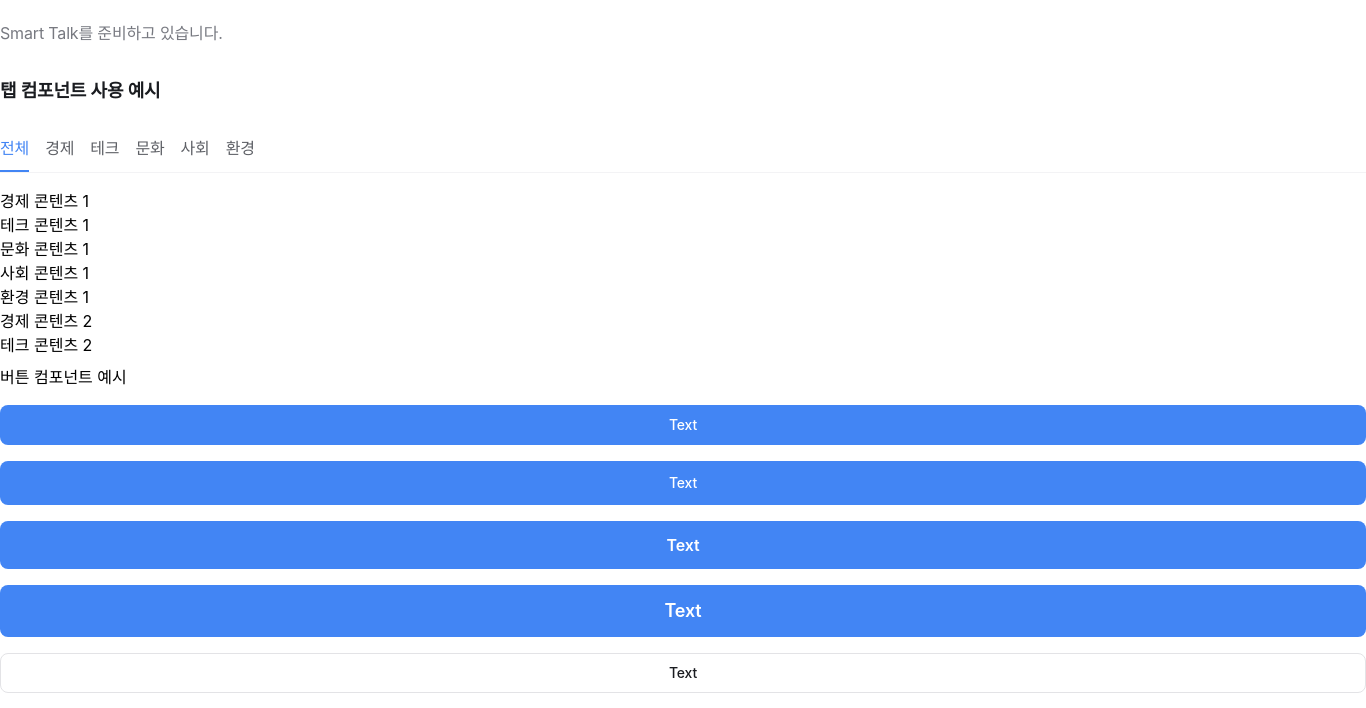
Scenario: keeps the selected tab and its filtered content when the bottom sheet closes
Click the tab "테크": (105, 148) [90,124,119,172]
(page scrolled)
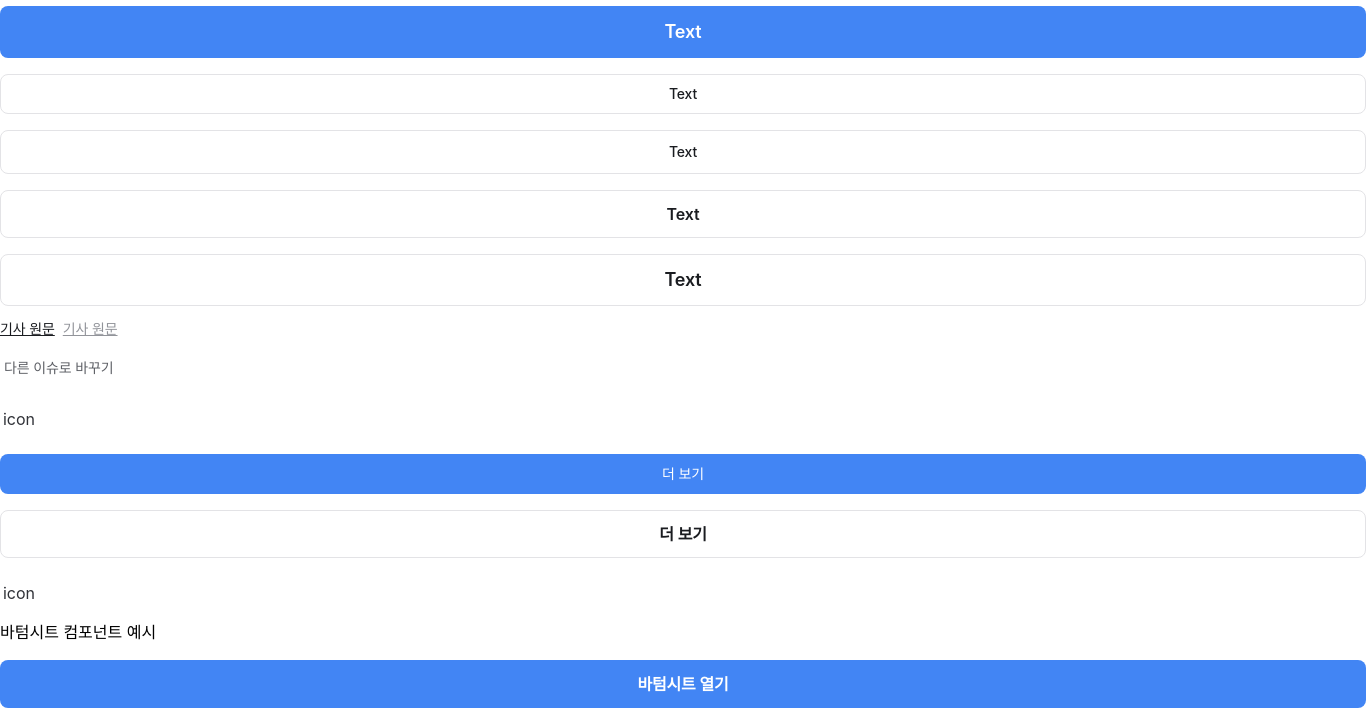
Click the button "바텀시트 열기": (683, 684) [0,660,1365,707]
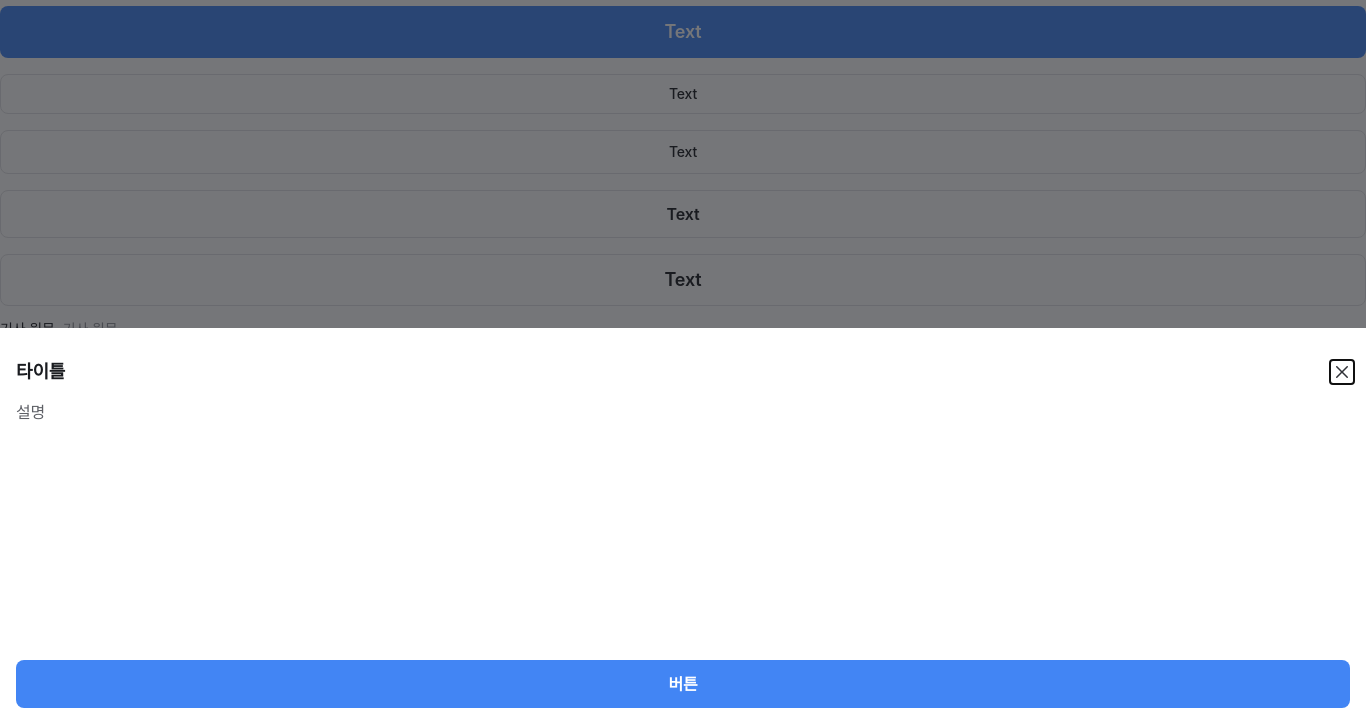
Expected: the dialog "타이틀" shows "설명", [16,402,45,422]
Click the button named "바텀시트 닫기": (1342, 372) [1330,360,1354,384]
(page scrolled)
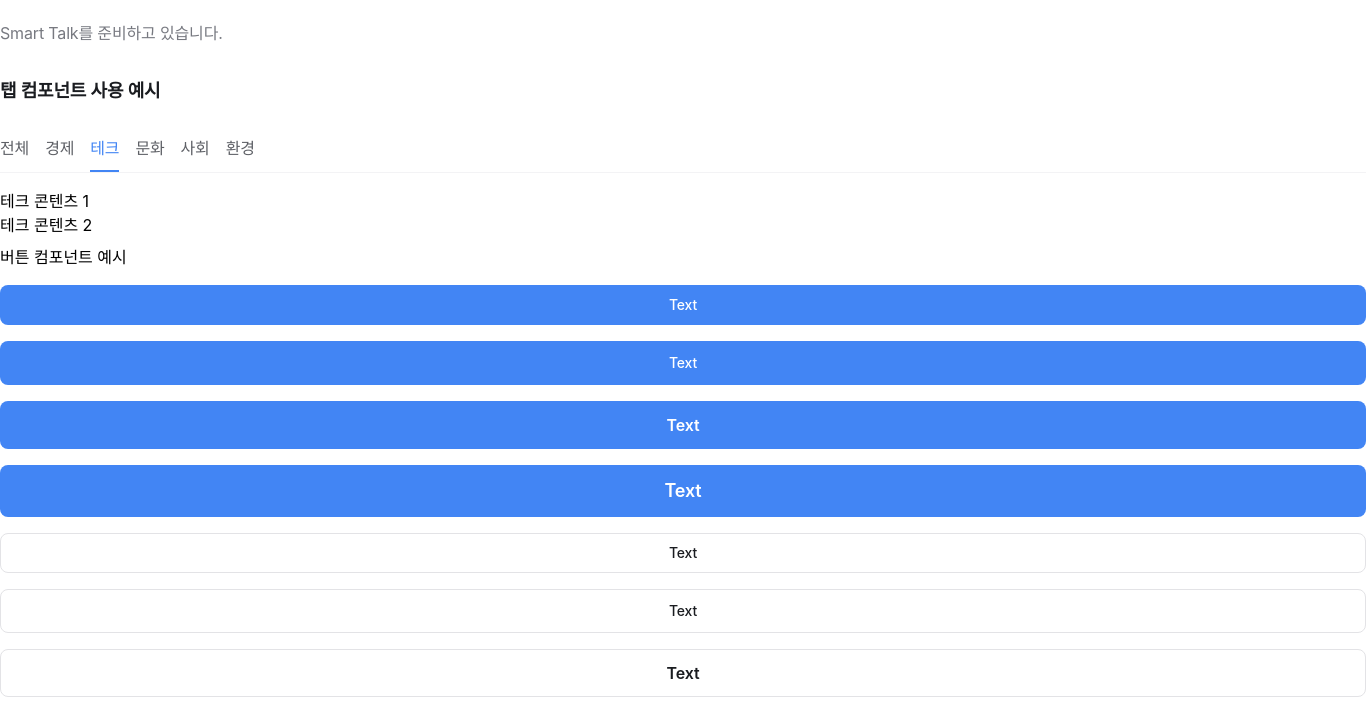
Expected: the panel shows "테크 콘텐츠 1", [0,191,89,211]
Expected: the dialog is gone
